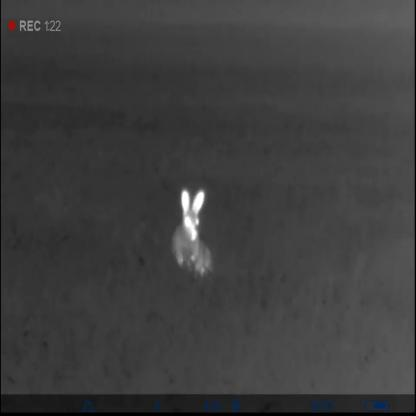rehkitze: (171, 185, 216, 274)
